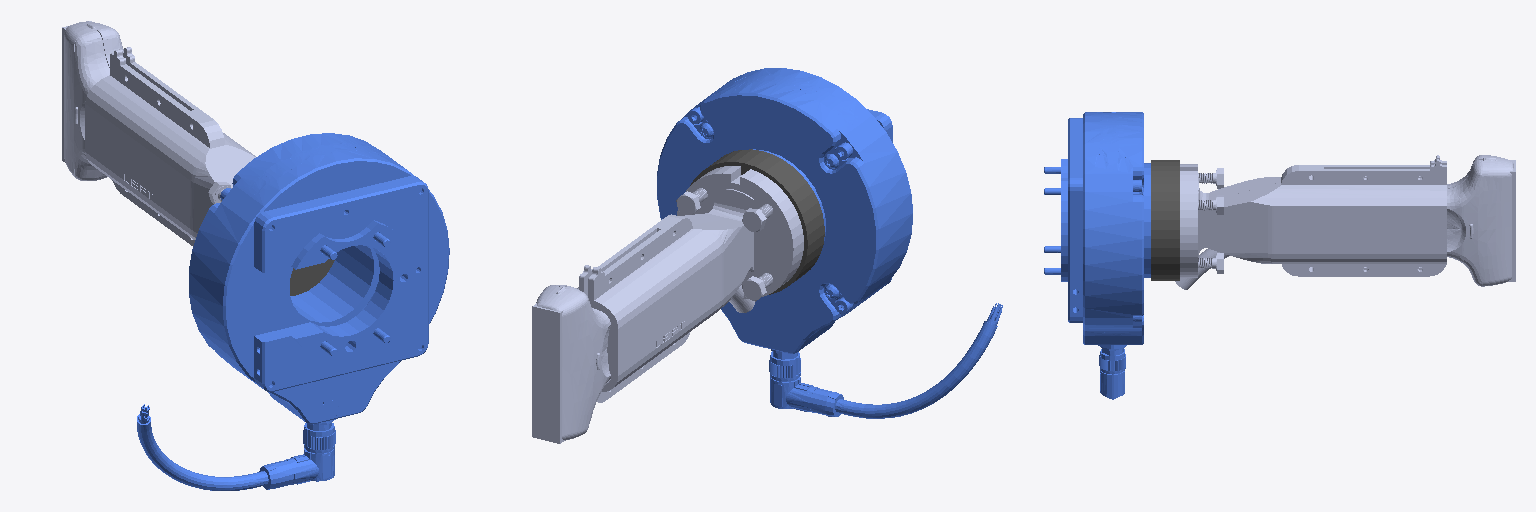
URDF robot description (ur5):
<?xml version="1.0" ?>
<robot name="ur5" xmlns:xacro="http://www.ros.org/wiki/xacro">
	<!-- common stuff -->
	<gazebo>
		<plugin filename="libgazebo_ros_control.so" name="ros_control">
			<!--robotNamespace>/</robotNamespace-->
		<!--robotSimType>gazebo_ros_control/DefaultRobotHWSim</robotSimType-->
</plugin>
<!--
    <plugin name="gazebo_ros_power_monitor_controller" filename="libgazebo_ros_power_monitor.so">
      <alwaysOn>true</alwaysOn>
      <updateRate>1.0</updateRate>
      <timeout>5</timeout>
      <powerStateTopic>power_state</powerStateTopic>
      <powerStateRate>10.0</powerStateRate>
      <fullChargeCapacity>87.78</fullChargeCapacity>     
      <dischargeRate>-474</dischargeRate>
      <chargeRate>525</chargeRate>
      <dischargeVoltage>15.52</dischargeVoltage>
      <chargeVoltage>16.41</chargeVoltage>
    </plugin>
-->
  </gazebo>
  <!-- ur5 -->
  <!-- arm -->
  <link name="base_link">
	  <visual>
		  <geometry>
			  <mesh filename="package://ur_description/meshes/ur5/visual/Base.dae"/>
		  </geometry>
		  <material name="LightGrey">
			  <color rgba="0.7 0.7 0.7 1.0"/>
		  </material>
	  </visual>
	  <collision>
		  <geometry>
			  <mesh filename="package://ur_description/meshes/ur5/collision/base.stl"/>
		  </geometry>
	  </collision>
	  <inertial>
		  <mass value="4.0"/>
		  <origin rpy="0 0 0" xyz="0.0 0.0 0.0"/>
		  <inertia ixx="0.00443333156" ixy="0.0" ixz="0.0" iyy="0.00443333156" iyz="0.0" izz="0.0072"/>
	  </inertial>
  </link>
  <joint name="shoulder_pan_joint" type="revolute">
	  <parent link="base_link"/>
	  <child link="shoulder_link"/>
	  <origin rpy="0.0 0.0 0.0" xyz="0.0 0.0 0.089159"/>
	  <axis xyz="0 0 1"/>
	  <limit effort="150.0" lower="-6.2831853" upper="6.2831853" velocity="3.15"/>
	  <dynamics damping="0.0" friction="0.0"/>
  </joint>
  <link name="shoulder_link">
	  <visual>
		  <geometry>
			  <mesh filename="package://ur_description/meshes/ur5/visual/Shoulder.dae"/>
		  </geometry>
		  <material name="LightGrey">
			  <color rgba="0.7 0.7 0.7 1.0"/>
		  </material>
	  </visual>
	  <collision>
		  <geometry>
			  <mesh filename="package://ur_description/meshes/ur5/collision/shoulder.stl"/>
		  </geometry>
	  </collision>
	  <inertial>
		  <mass value="3.7"/>
		  <origin rpy="0 0 0" xyz="0.0 0.0 0.0"/>
		  <inertia ixx="0.010267495893" ixy="0.0" ixz="0.0" iyy="0.010267495893" iyz="0.0" izz="0.00666"/>
	  </inertial>
  </link>
  <joint name="shoulder_lift_joint" type="revolute">
	  <parent link="shoulder_link"/>
	  <child link="upper_arm_link"/>
	  <origin rpy="0.0 1.570796325 0.0" xyz="0.0 0.13585 0.0"/>
	  <axis xyz="0 1 0"/>
	  <limit effort="150.0" lower="-6.2831853" upper="6.2831853" velocity="3.15"/>
	  <dynamics damping="0.0" friction="0.0"/>
  </joint>
  <link name="upper_arm_link">
	  <visual>
		  <geometry>
			  <mesh filename="package://ur_description/meshes/ur5/visual/UpperArm.dae"/>
		  </geometry>
		  <material name="LightGrey">
			  <color rgba="0.7 0.7 0.7 1.0"/>
		  </material>
	  </visual>
	  <collision>
		  <geometry>
			  <mesh filename="package://ur_description/meshes/ur5/collision/upper_arm.stl"/>
		  </geometry>
	  </collision>
	  <inertial>
		  <mass value="8.393"/>
		  <origin rpy="0 0 0" xyz="0.0 0.0 0.28"/>
		  <inertia ixx="0.22689067591" ixy="0.0" ixz="0.0" iyy="0.22689067591" iyz="0.0" izz="0.0151074"/>
	  </inertial>
  </link>
  <joint name="elbow_joint" type="revolute">
	  <parent link="upper_arm_link"/>
	  <child link="forearm_link"/>
	  <origin rpy="0.0 0.0 0.0" xyz="0.0 -0.1197 0.425"/>
	  <axis xyz="0 1 0"/>
	  <limit effort="150.0" lower="-6.2831853" upper="6.2831853" velocity="3.15"/>
	  <dynamics damping="0.0" friction="0.0"/>
  </joint>
  <link name="forearm_link">
	  <visual>
		  <geometry>
			  <mesh filename="package://ur_description/meshes/ur5/visual/Forearm.dae"/>
		  </geometry>
		  <material name="LightGrey">
			  <color rgba="0.7 0.7 0.7 1.0"/>
		  </material>
	  </visual>
	  <collision>
		  <geometry>
			  <mesh filename="package://ur_description/meshes/ur5/collision/forearm.stl"/>
		  </geometry>
	  </collision>
	  <inertial>
		  <mass value="2.275"/>
		  <origin rpy="0 0 0" xyz="0.0 0.0 0.25"/>
		  <inertia ixx="0.049443313556" ixy="0.0" ixz="0.0" iyy="0.049443313556" iyz="0.0" izz="0.004095"/>
	  </inertial>
  </link>
  <joint name="wrist_1_joint" type="revolute">
	  <parent link="forearm_link"/>
	  <child link="wrist_1_link"/>
	  <origin rpy="0.0 1.570796325 0.0" xyz="0.0 0.0 0.39225"/>
	  <axis xyz="0 1 0"/>
	  <limit effort="28.0" lower="-6.2831853" upper="6.2831853" velocity="3.2"/>
	  <dynamics damping="0.0" friction="0.0"/>
  </joint>
  <link name="wrist_1_link">
	  <visual>
		  <geometry>
			  <mesh filename="package://ur_description/meshes/ur5/visual/Wrist1.dae"/>
		  </geometry>
		  <material name="LightGrey">
			  <color rgba="0.7 0.7 0.7 1.0"/>
		  </material>
	  </visual>
	  <collision>
		  <geometry>
			  <mesh filename="package://ur_description/meshes/ur5/collision/wrist_1.stl"/>
		  </geometry>
	  </collision>
	  <inertial>
		  <mass value="1.219"/>
		  <origin rpy="0 0 0" xyz="0.0 0.0 0.0"/>
		  <inertia ixx="0.111172755531" ixy="0.0" ixz="0.0" iyy="0.111172755531" iyz="0.0" izz="0.21942"/>
	  </inertial>
  </link>
  <joint name="wrist_2_joint" type="revolute">
	  <parent link="wrist_1_link"/>
	  <child link="wrist_2_link"/>
	  <origin rpy="0.0 0.0 0.0" xyz="0.0 0.093 0.0"/>
	  <axis xyz="0 0 1"/>
	  <limit effort="28.0" lower="-6.2831853" upper="6.2831853" velocity="3.2"/>
	  <dynamics damping="0.0" friction="0.0"/>
  </joint>
  <link name="wrist_2_link">
	  <visual>
		  <geometry>
			  <mesh filename="package://ur_description/meshes/ur5/visual/Wrist2.dae"/>
		  </geometry>
		  <material name="LightGrey">
			  <color rgba="0.7 0.7 0.7 1.0"/>
		  </material>
	  </visual>
	  <collision>
		  <geometry>
			  <mesh filename="package://ur_description/meshes/ur5/collision/wrist_2.stl"/>
		  </geometry>
	  </collision>
	  <inertial>
		  <mass value="1.219"/>
		  <origin rpy="0 0 0" xyz="0.0 0.0 0.0"/>
		  <inertia ixx="0.111172755531" ixy="0.0" ixz="0.0" iyy="0.111172755531" iyz="0.0" izz="0.21942"/>
	  </inertial>
  </link>
  <joint name="wrist_3_joint" type="revolute">
	  <parent link="wrist_2_link"/>
	  <child link="wrist_3_link"/>
	  <origin rpy="0.0 0.0 0.0" xyz="0.0 0.0 0.09465"/>
	  <axis xyz="0 1 0"/>
	  <limit effort="28.0" lower="-6.2831853" upper="6.2831853" velocity="3.2"/>
	  <dynamics damping="0.0" friction="0.0"/>
  </joint>
  <link name="wrist_3_link">
	  <visual>
		  <geometry>
			  <mesh filename="package://ur_description/meshes/ur5/visual/Wrist3.dae"/>
		  </geometry>
		  <material name="LightGrey">
			  <color rgba="0.7 0.7 0.7 1.0"/>
		  </material>
	  </visual>
	  <collision>
		  <geometry>
			  <mesh filename="package://ur_description/meshes/ur5/collision/wrist_3.stl"/>
		  </geometry>
	  </collision>
	  <inertial>
		  <mass value="0.1879"/>
		  <origin rpy="0 0 0" xyz="0.0 0.0 0.0"/>
		  <inertia ixx="0.0171364731454" ixy="0.0" ixz="0.0" iyy="0.0171364731454" iyz="0.0" izz="0.033822"/>
	  </inertial>
  </link>
  <joint name="ee_fixed_joint" type="fixed">
	  <parent link="wrist_3_link"/>
	  <child link="ee_link"/>
	  <!--origin rpy="0.0 0.0 1.570796325" xyz="0.0 0.0823 0.0"/-->
	  <origin rpy="-1.570796325 0.0 1.570796325" xyz="0.0 0.0823 0.0"/>
  </joint>
  <link name="ee_link">
	  <collision>
		  <geometry>
			  <box size="0.01 0.01 0.01"/>
		  </geometry>
		  <origin rpy="0 0 0" xyz="-0.01 0 0"/>
	  </collision>
  </link>
  <joint name="force_sensor_ee_joint" type="fixed">
	  <parent link="ee_link"/>
	  <child link="robotiq_sensor_ft_150"/>
	  <!-- 50 mm is the height of the robotiq force sensor -->
	  <!--origin rpy="3.1415926 -1.570796325 0.0" xyz="0.0495 0.0 0.0"/-->
	  <origin rpy="-1.570796325 0.0 -1.570796325" xyz="0.0495 0.0 0.0"/>

  </joint>

  <link name="robotiq_sensor_ft_150">
	  <inertial>
		  <!--origin xyz="0.00488219806659017 -0.0231670070644895 -0.000115077525975578" rpy="0 0 0" /-->
		  <origin xyz="0.0 0.0 0.0" rpy="0 0 0 "/>
		  <mass value="0.401516952346595" />
		  <inertia
			  ixx="0.000444366413738052"
			  ixy="3.10223375121681E-06"
			  ixz="-2.37931602812798E-05"
			  iyy="0.000904753267135545"
			  iyz="-4.25153794452775E-06"
			  izz="0.000569740867968783" />
	  </inertial>
	  <visual>
		  <origin xyz="0 0 0" rpy="0 0 0" />
		  <geometry>
			  <mesh filename="package://robotiq_sensor_ft_150/meshes/base_link.STL" />
		  </geometry>
		  <material name="">
			  <!--color rgba="0.3 0.3 0.3 1" /--> <!--grey -->
			  <color rgba="0.39 0.58 0.99 1"/>
		  </material>
	  </visual>
	  <collision>
		  <origin xyz="0 0 0" rpy="0 0 0" />
		  <geometry>
			  <mesh filename="package://robotiq_sensor_ft_150/meshes/base_link.STL" />
		  </geometry>
	  </collision>
  </link>

  <joint name="connector_force_sensor_joint" type="fixed">
	  <parent link="robotiq_sensor_ft_150"/>
	  <child link="connector"/>

	  <origin rpy="0.0  0.0 0.0" xyz="0.0 0.0 0.0"/>
  </joint>
  <link name="connector">
	  <inertial>
		  <!--origin
			  xyz="1.269E-18 -0.0079375 4.86015646673256E-19"
			  rpy="0 0 0" /-->
		  <mass value="0.05597" />
		  <inertia
			  ixx="1.68784449251922E-05"
			  ixy="0"
			  ixz="0.0"
			  iyy="0.0"
			  iyz="-3.14060153878525E-05"
			  izz="0.0" />
	  </inertial>
	  <visual>
		  <origin xyz="0 0 0" rpy="0 0 0" />
		  <geometry>
			  <mesh filename="package://connector_description/meshes/connector.STL" />
		  </geometry>
		  <material name="">
			  <color rgba="0.4 0.4 0.4 1" />
		  </material>
	  </visual>
	  <collision>
		  <origin xyz="0 0 0" rpy="0 0 0" />
		  <geometry>
			  <mesh filename="package://connector_description/meshes/connector.STL" />
		  </geometry>
	  </collision>
  </link>

  <joint name="sensor_ee_joint" type="fixed">
	  <parent link="connector"/>
	  <child link="ultrasound_sensor"/>

	  <!-- x is obtained by trial and error in rviz via naked eye checking -->
	  <!-- origin rpy="0.0 -1.57 0.0" xyz="0.14751 0.0 0.0"/-->
	  <!-- origin rpy="0.0 -1.57 0.0" xyz="0.184751 0.0 0.0"/-->
	  <origin rpy="3.1415926 0.0 1.570796325" xyz="0.0 0.0 0.200620"/> <!--Distance between the UR frame and connector -->
  </joint>

  <link name="ultrasound_sensor">
	  <inertial>
		  <!-- <origin
	xyz="0.0 0.0 0.0"
	rpy="0 0 0" /> -->
      <mass value="0.27748"/>
      <inertia ixx="0.000772393706918962" ixy="3.62561532781402E-07" ixz="-8.97669927346242E-06" iyy="-5.67458125370052E-06" iyz="-9.70334791219381E-05" izz="5.67458125370057E-06"/>
    </inertial>
    <visual>
	    <!-- Reajust the position of the ultrasound_sensor frame -->
	    <origin rpy="0 0 0" xyz="0 0 0.037"/>
	    <geometry>
		    <mesh filename="package://sensor_description/meshes/Ultra_Sensor.STL"/>
	    </geometry>
	    <material name="Yellow">
		    <color rgba="0.79216 0.81961 0.93333 1"/>
		    <!--color rgba="0.7411 0.7176 0.4196 1" /-->
	    </material>
    </visual>
    <collision>
	    <origin rpy="0 0 0" xyz="0 0 0"/>
	    <geometry>
		    <mesh filename="package://sensor_description/meshes/Ultra_Sensor.STL"/>
	    </geometry>
    </collision>
  </link>

  <transmission name="shoulder_pan_trans">
	  <type>transmission_interface/SimpleTransmission</type>
	  <joint name="shoulder_pan_joint"/>
	  <actuator name="shoulder_pan_motor">
		  <hardwareInterface>EffortJointInterface</hardwareInterface>
		  <mechanicalReduction>1</mechanicalReduction>
	  </actuator>
  </transmission>
  <transmission name="shoulder_lift_trans">
	  <type>transmission_interface/SimpleTransmission</type>
	  <joint name="shoulder_lift_joint"/>
	  <actuator name="shoulder_lift_motor">
		  <hardwareInterface>EffortJointInterface</hardwareInterface>
		  <mechanicalReduction>1</mechanicalReduction>
	  </actuator>
  </transmission>
  <transmission name="elbow_trans">
	  <type>transmission_interface/SimpleTransmission</type>
	  <joint name="elbow_joint"/>
	  <actuator name="elbow_motor">
		  <hardwareInterface>EffortJointInterface</hardwareInterface>
		  <mechanicalReduction>1</mechanicalReduction>
	  </actuator>
  </transmission>
  <transmission name="wrist_1_trans">
	  <type>transmission_interface/SimpleTransmission</type>
	  <joint name="wrist_1_joint"/>
	  <actuator name="wrist_1_motor">
		  <hardwareInterface>EffortJointInterface</hardwareInterface>
		  <mechanicalReduction>1</mechanicalReduction>
	  </actuator>
  </transmission>
  <transmission name="wrist_2_trans">
	  <type>transmission_interface/SimpleTransmission</type>
	  <joint name="wrist_2_joint"/>
	  <actuator name="wrist_2_motor">
		  <hardwareInterface>EffortJointInterface</hardwareInterface>
		  <mechanicalReduction>1</mechanicalReduction>
	  </actuator>
  </transmission>
  <transmission name="wrist_3_trans">
	  <type>transmission_interface/SimpleTransmission</type>
	  <joint name="wrist_3_joint"/>
	  <actuator name="wrist_3_motor">
		  <hardwareInterface>EffortJointInterface</hardwareInterface>
		  <mechanicalReduction>1</mechanicalReduction>
	  </actuator>
  </transmission>

  <link name="world"/>
  <joint name="world_joint" type="fixed">
	  <parent link="world"/>
	  <child link="base_link"/>
	  <origin rpy="0.0 0.0 0.0" xyz="0.0 0.0 0.0"/>
  </joint>
</robot>

--- Render facts (derived) ---
3 views of the same robot in one strip: view 1: azimuth 30°, elevation 25°; view 2: azimuth 150°, elevation 25°; view 3: azimuth 270°, elevation 25° (orthographic).
Robot: ur5 — 12 links, 11 joints (6 revolute, 5 fixed); root link world; default pose: all joints at 0.
Visible links, largest first — view 1: robotiq_sensor_ft_150, ultrasound_sensor, connector; view 2: robotiq_sensor_ft_150, ultrasound_sensor, connector; view 3: ultrasound_sensor, robotiq_sensor_ft_150, connector.
Boxes of the visible links, x1=… form: robotiq_sensor_ft_150: x1=137, y1=133, x2=449, y2=490; ultrasound_sensor: x1=62, y1=21, x2=255, y2=245; connector: x1=290, y1=259, x2=334, y2=295; robotiq_sensor_ft_150: x1=657, y1=68, x2=1002, y2=418; ultrasound_sensor: x1=532, y1=166, x2=803, y2=443; connector: x1=690, y1=149, x2=824, y2=294; ultrasound_sensor: x1=1175, y1=155, x2=1515, y2=289; robotiq_sensor_ft_150: x1=1044, y1=112, x2=1150, y2=399; connector: x1=1151, y1=160, x2=1179, y2=280.
Size in the robot's own frame: 0.1652 by 0.2603 by 0.1658 metres.
Meshes: 10 distinct files referenced, 3 mesh visuals loaded (3 binary STL); not drawn: 7 (reference not matched to a file when rendering).